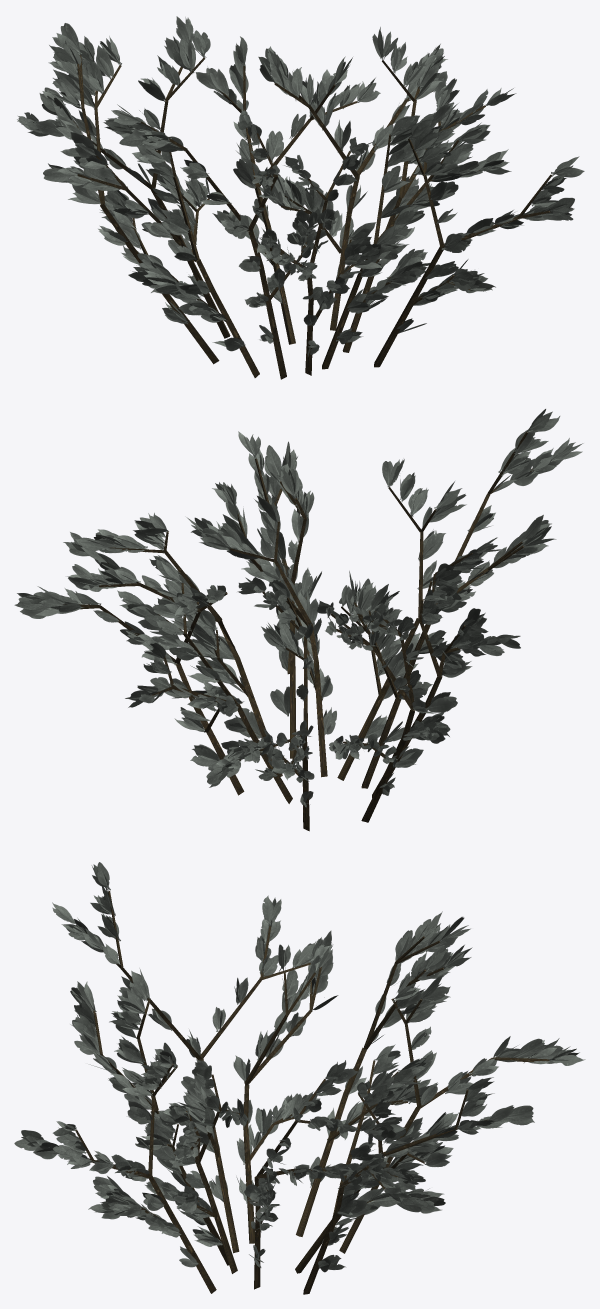
The model's file is sagebrush_grey_v01_LOD1.glb.
The picture shows the model from 3 angles, top to bottom: view 1: azimuth 30°, elevation 25°; view 2: azimuth 150°, elevation 25°; view 3: azimuth 270°, elevation 25°; orthographic projection. The views are drawn at different scales.
Visible parts, largest first — view 1: sagebrush_grey_v01_LOD1; view 2: sagebrush_grey_v01_LOD1; view 3: sagebrush_grey_v01_LOD1.
Part boxes in pixels (bbox=[...]): sagebrush_grey_v01_LOD1: bbox=[17, 16, 584, 379]; sagebrush_grey_v01_LOD1: bbox=[14, 409, 583, 831]; sagebrush_grey_v01_LOD1: bbox=[14, 862, 585, 1294].
Bounding box in the file's own units: 0.7598 × 0.5486 × 0.8314.
2 materials, 2 textured.
